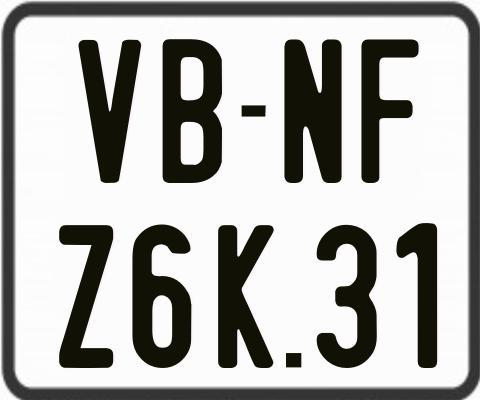1: (393, 221, 435, 371)
3: (316, 225, 376, 371)
6: (131, 225, 191, 370)
B: (160, 38, 224, 188)
F: (361, 36, 423, 183)
K: (216, 222, 274, 368)
N: (283, 38, 344, 182)
V: (77, 38, 145, 182)
Z: (59, 223, 115, 369)
